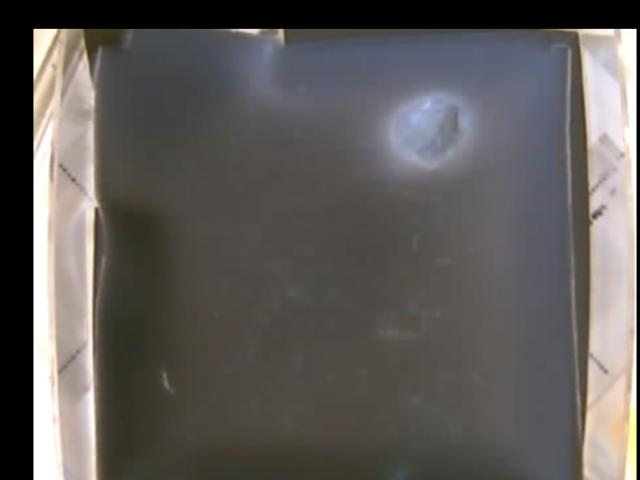Pebble: (391, 92, 465, 171)
